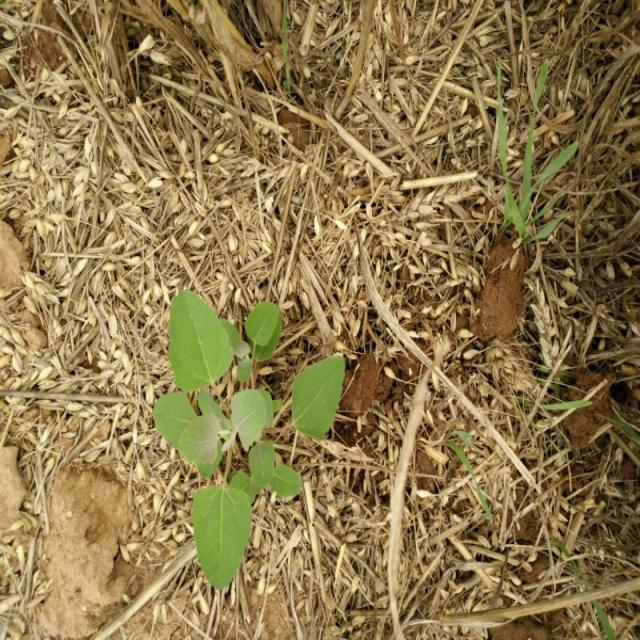ca: (155, 286, 348, 588)
